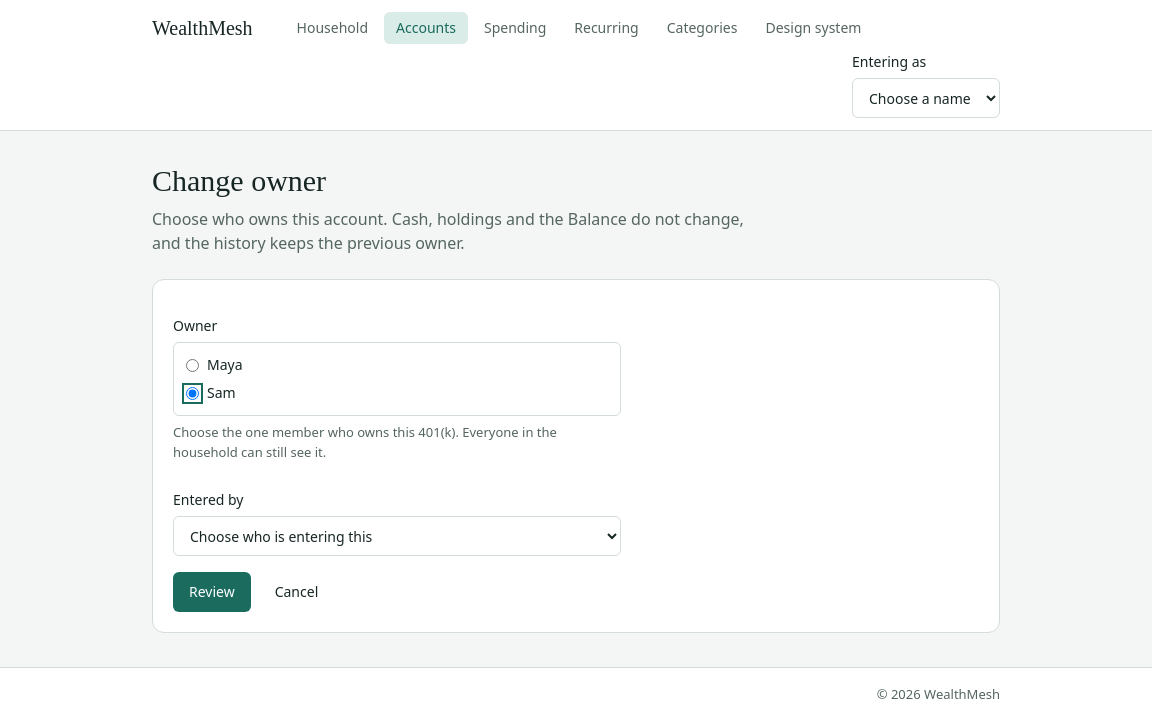
the reviewed owner correction (Q-064) › Q-064 without a chosen entering member the review asks who is making the change
Click the radio button labelled "Maya": click(192, 365) x1=186 y1=358 x2=199 y2=372
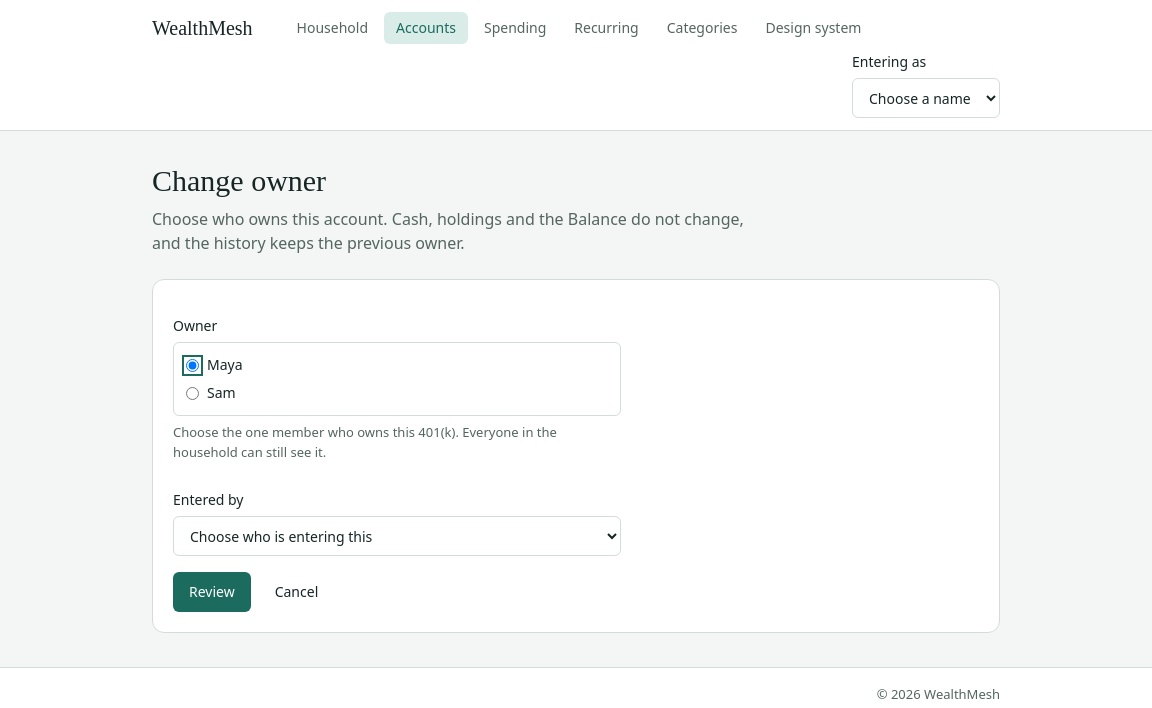
Click the button "Review": click(212, 592) x1=173 y1=572 x2=251 y2=612
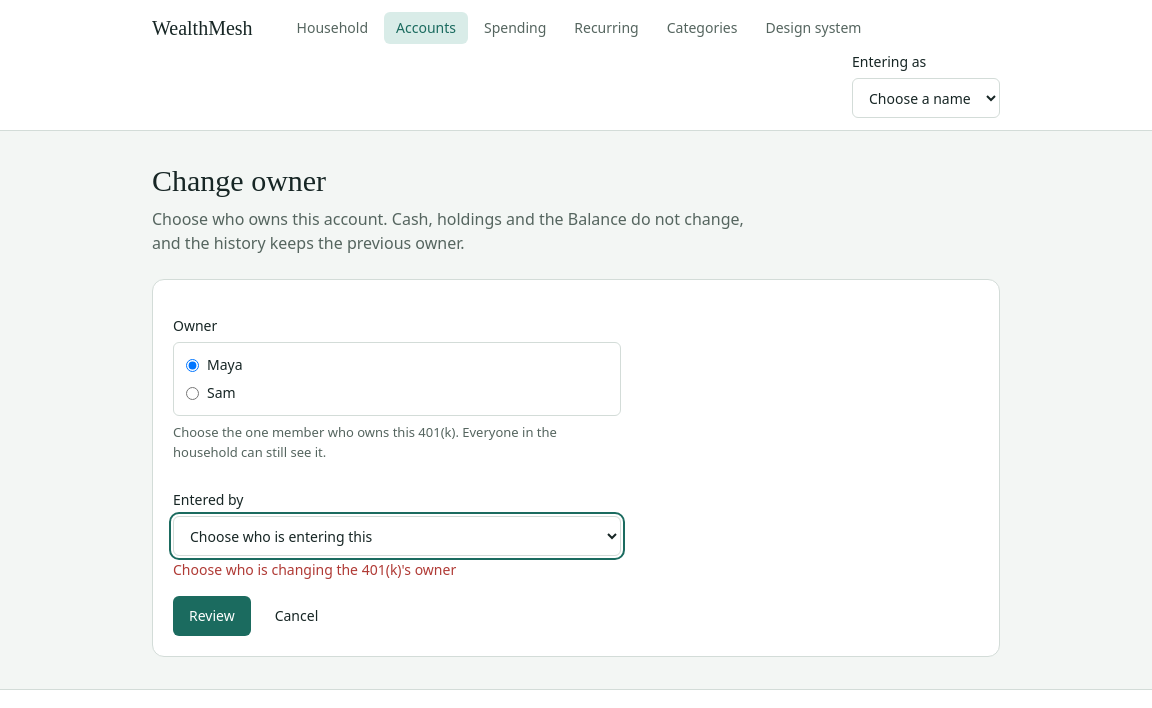
Check: the message reads "Choose who is changing the 401(k)'s owner", box x1=173 y1=560 x2=456 y2=579
